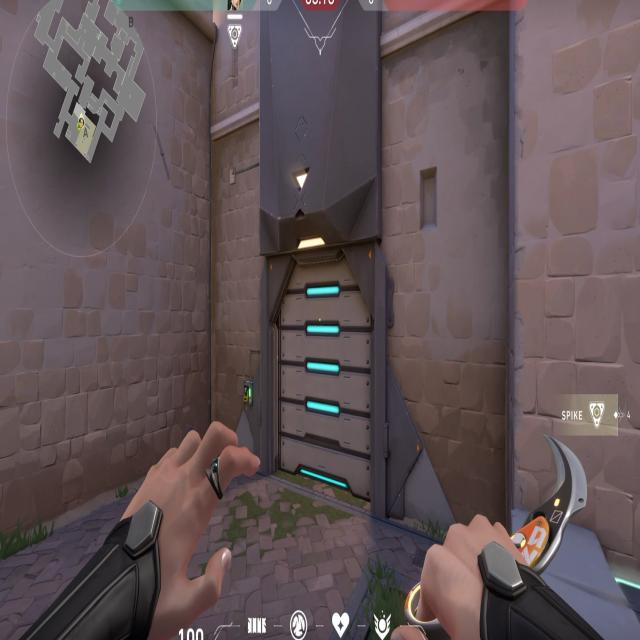A_Door: (257, 228, 394, 516)
